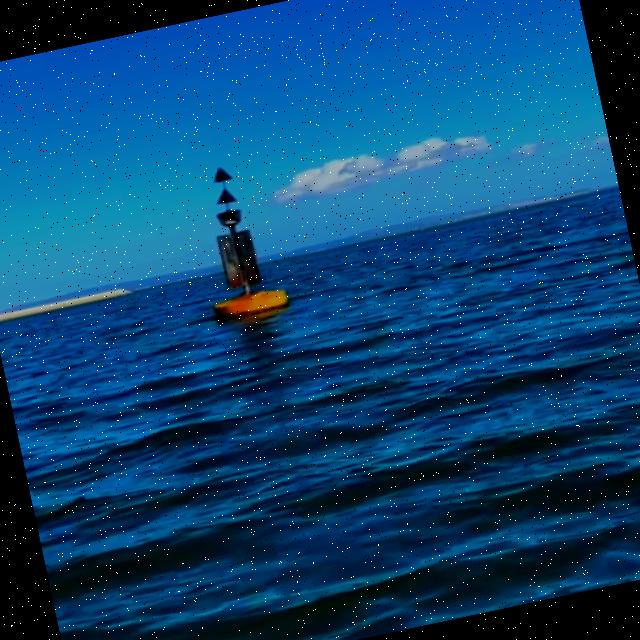marque: (180, 157, 298, 326)
